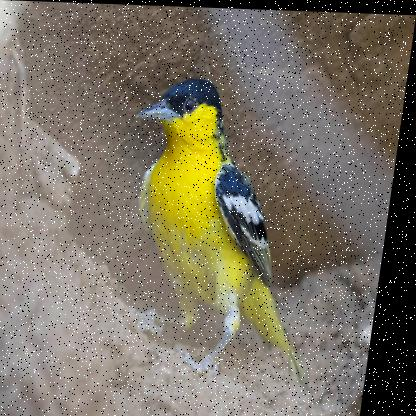Burung: (112, 75, 349, 372)
